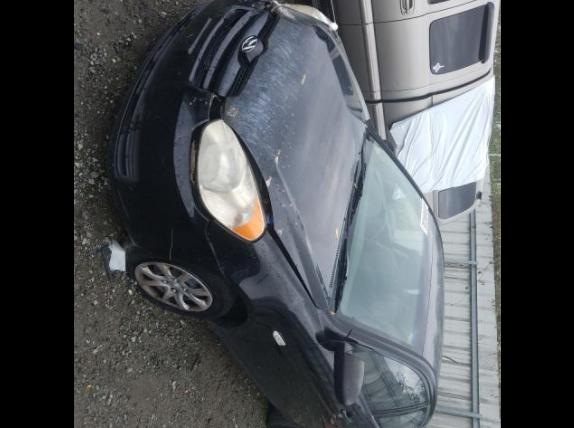Broken part: (112, 0, 281, 275), (233, 127, 317, 306)
Corrosion: (145, 286, 161, 297), (188, 304, 198, 309), (140, 272, 144, 280), (137, 281, 142, 286)
Dent: (274, 4, 315, 24)
Flaking: (272, 151, 280, 167), (229, 106, 238, 117), (299, 72, 305, 87), (266, 177, 270, 187), (335, 230, 338, 241), (278, 229, 283, 235)
